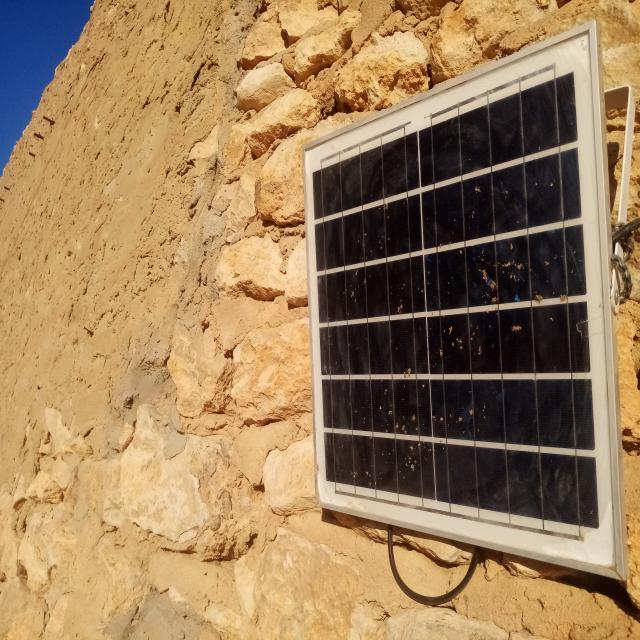faulty: (305, 29, 620, 574)
